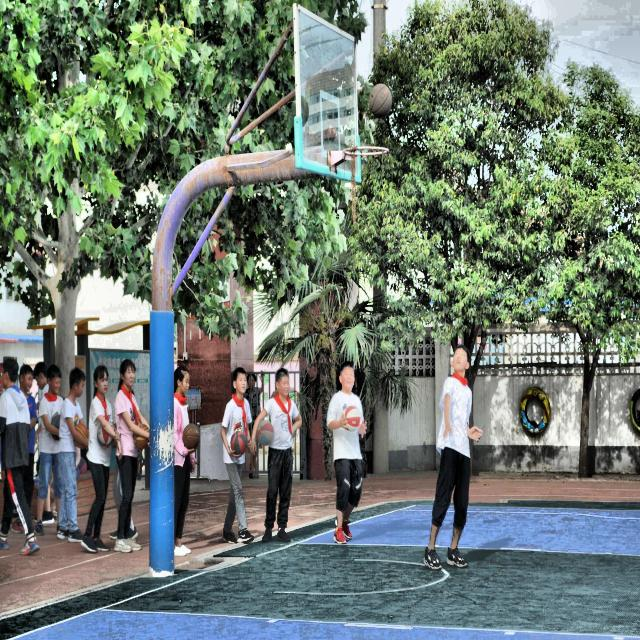board: (370, 83, 392, 118)
rim: (327, 142, 392, 170)
